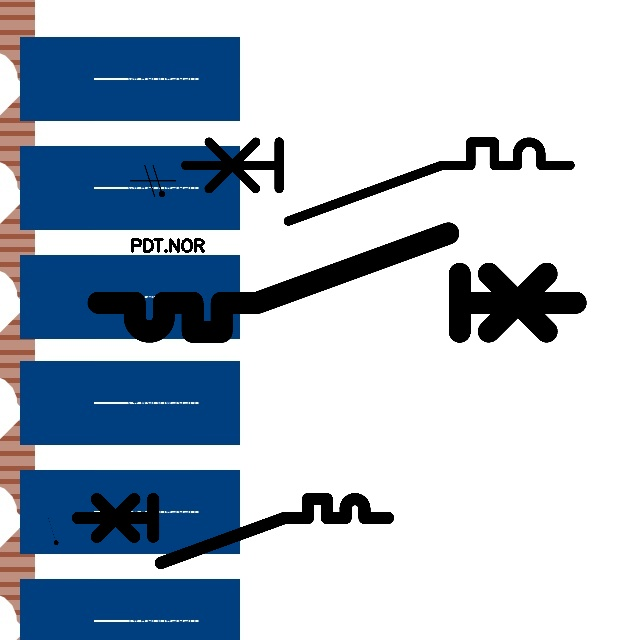interruptor_termomagnetico: (86, 221, 587, 344), (175, 132, 580, 231), (69, 491, 395, 571)
